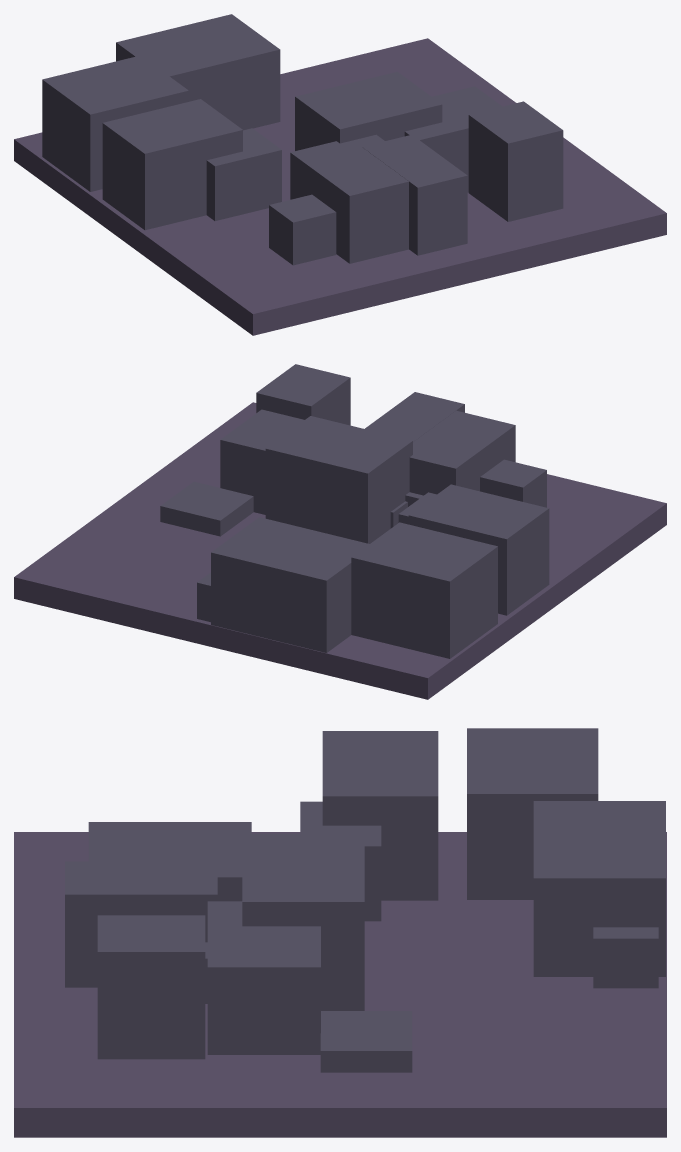
Rendered from signal-kiosk-rubble.glb.
3 views of the same model, one above another, from view 1: azimuth 30°, elevation 25°; view 2: azimuth 150°, elevation 25°; view 3: azimuth 270°, elevation 25° (orthographic). The views are drawn at different scales.
Visible parts, largest first — view 1: rough-ground, fragment-9, fragment-1, fragment-6, fragment-5, fragment-4, fragment-2, fragment-10, fragment-3, fragment-0, fragment-8; view 2: rough-ground, fragment-6, fragment-1, fragment-2, fragment-9, fragment-5, fragment-8, fragment-4, fragment-13, fragment-10, fragment-0, fragment-7; view 3: rough-ground, fragment-1, fragment-6, fragment-4, fragment-8, fragment-9, fragment-2, fragment-10, fragment-5, fragment-13, fragment-7, fragment-3.
Part boxes in pixels (x1,y1,x2,y2): rough-ground: (14,38,666,335); fragment-9: (102,99,242,230); fragment-1: (116,14,280,130); fragment-6: (42,55,188,191); fragment-5: (290,134,408,263); fragment-4: (468,101,563,221); fragment-2: (295,71,442,150); fragment-10: (362,134,467,255); fragment-3: (206,128,281,220); fragment-0: (269,194,336,265); fragment-8: (404,86,502,192); rough-ground: (14,402,666,699); fragment-6: (351,522,497,658); fragment-1: (211,517,369,652); fragment-2: (265,416,412,543); fragment-9: (408,484,549,615); fragment-5: (409,410,515,495); fragment-8: (220,409,304,514); fragment-4: (256,364,350,425); fragment-13: (160,481,253,536); fragment-10: (365,392,464,441); fragment-0: (480,459,546,507); fragment-7: (197,572,210,622); rough-ground: (14,832,666,1137); fragment-1: (533,801,665,976); fragment-6: (467,728,598,899); fragment-4: (97,915,205,1059); fragment-8: (207,901,320,1054); fragment-9: (322,731,438,900); fragment-2: (242,833,364,1010); fragment-10: (65,861,217,987); fragment-5: (88,822,251,901); fragment-13: (320,1011,412,1072); fragment-7: (593,927,658,988); fragment-3: (300,801,381,921).
Bounding box in the file's own units: 1.2 × 0.2872 × 1.2.
